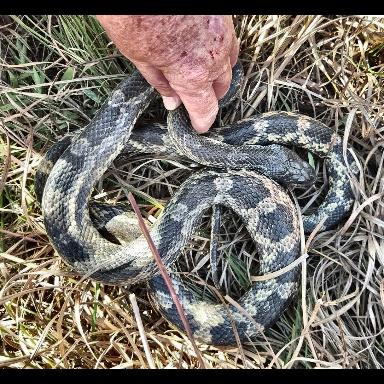snake: (151, 106, 355, 345), (41, 91, 187, 332)
